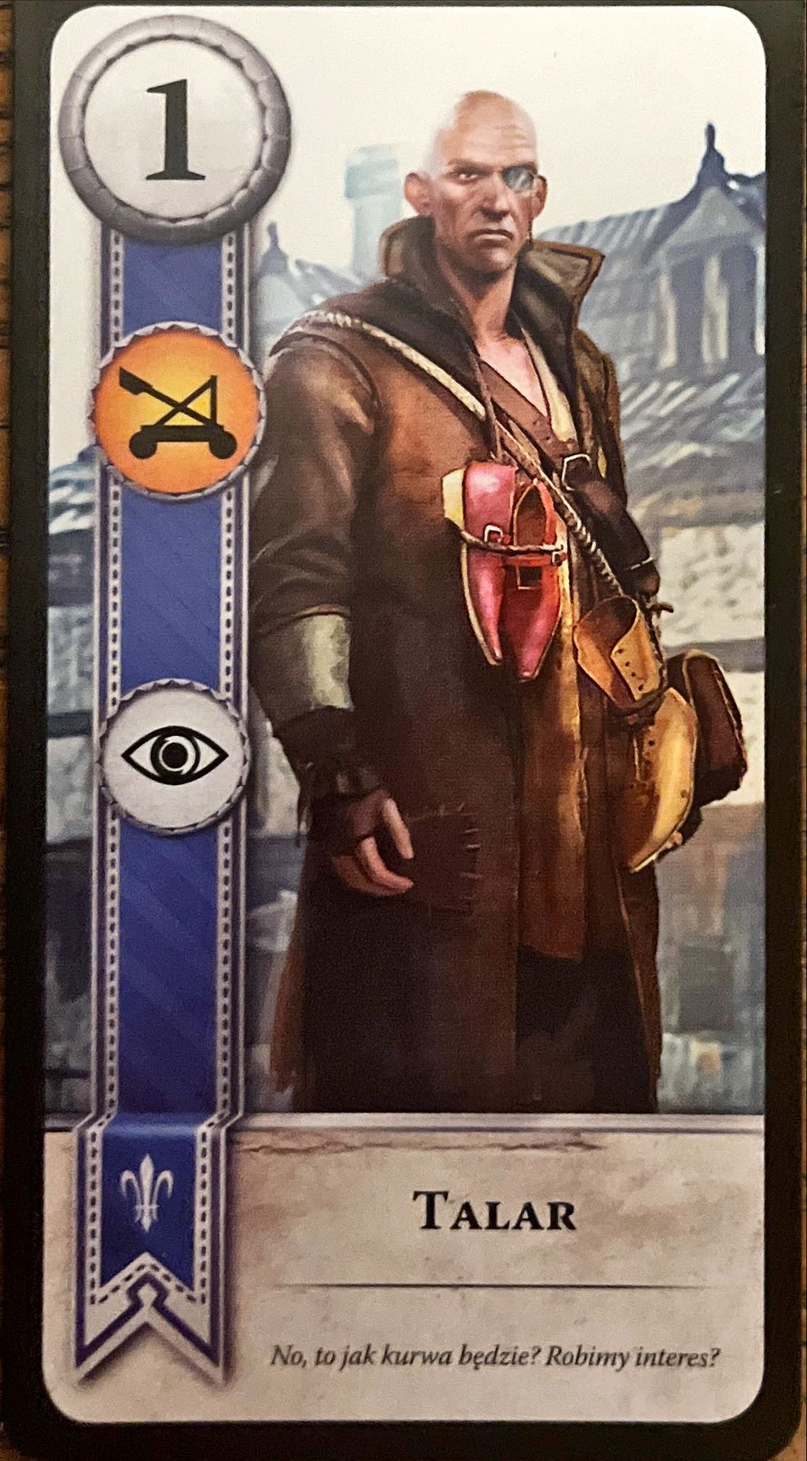1: (59, 14, 296, 243)
katapulta: (85, 320, 270, 504)
szpiegostwo: (92, 677, 253, 836)
